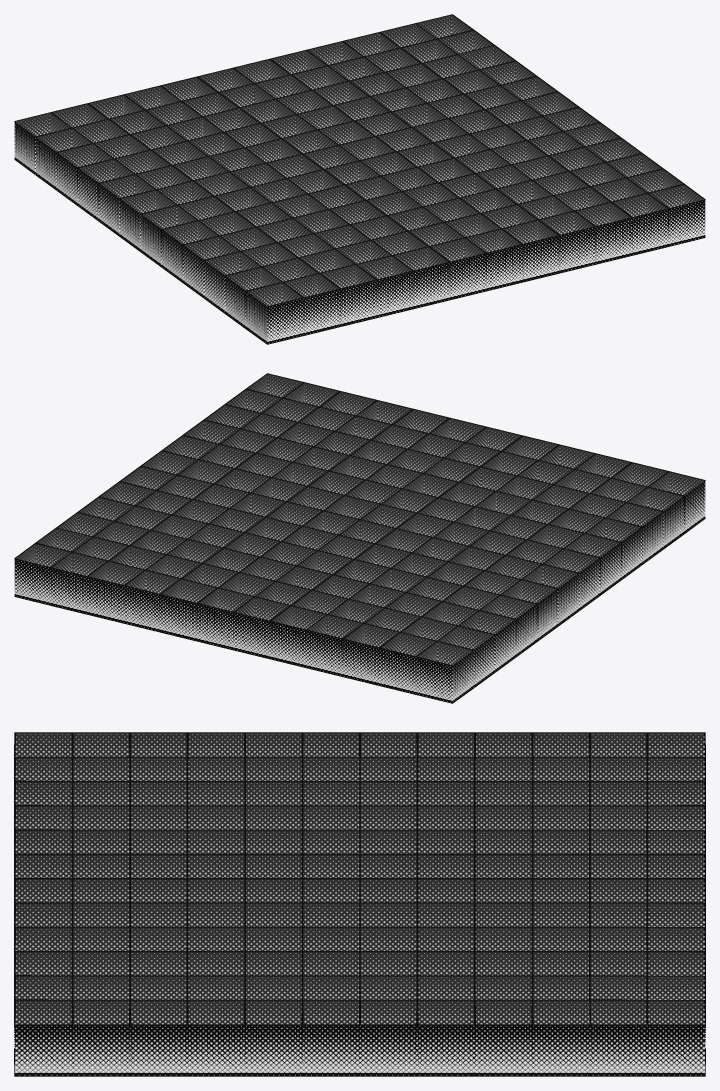
File: floor.glb
3 views of the same model, one above another, from view 1: azimuth 30°, elevation 25°; view 2: azimuth 150°, elevation 25°; view 3: azimuth 270°, elevation 25° (orthographic). The views are drawn at different scales.
Visible parts, largest first — view 1: Base_0; view 2: Base_0; view 3: Base_0.
Part boxes in pixels (x1,y1,x2,y2): Base_0: [14, 14, 705, 344]; Base_0: [14, 373, 705, 703]; Base_0: [14, 732, 705, 1076].
Size of what is drawn, in the model's own units: 6.02 by 0.5 by 6.02.
Materials: 2 (1 with a texture image).
